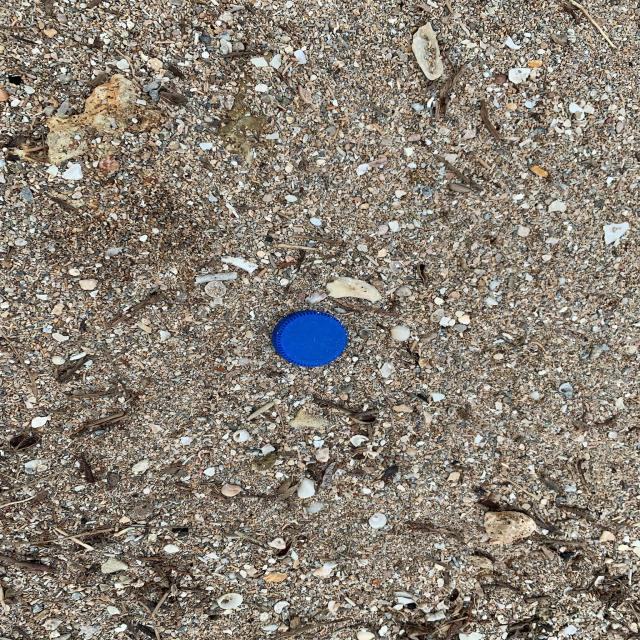litter: (272, 309, 347, 366)
